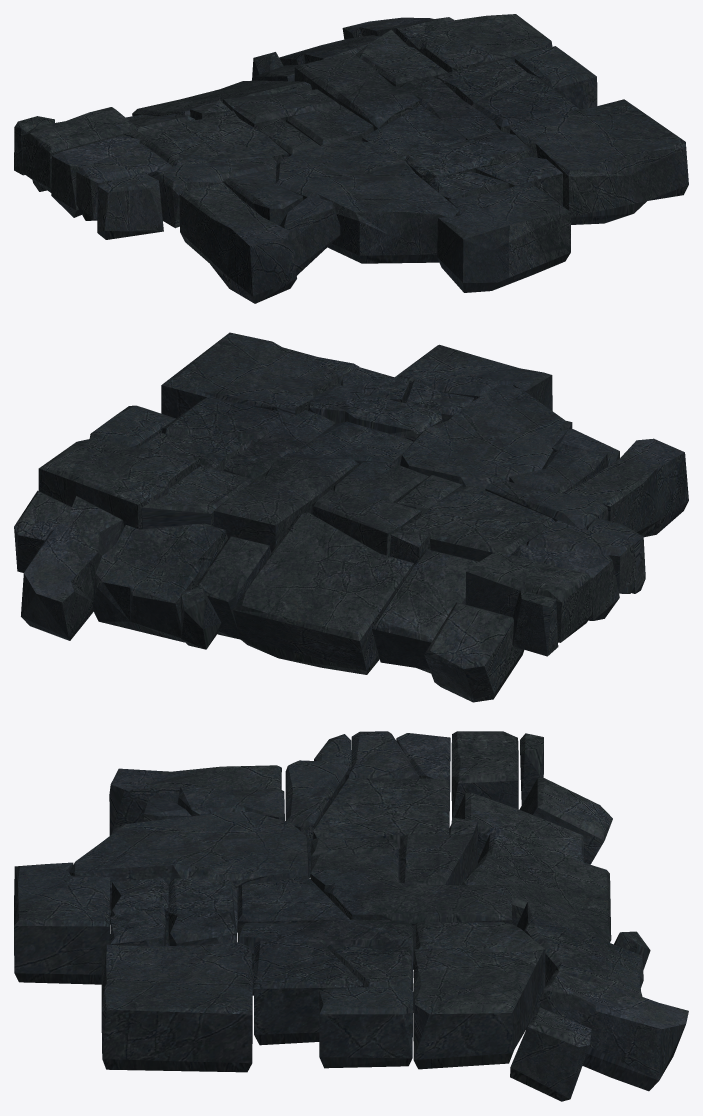
Rendered from Roca1.obj.
3 views of the same model, one above another, from view 1: azimuth 30°, elevation 25°; view 2: azimuth 150°, elevation 25°; view 3: azimuth 270°, elevation 25° (orthographic). The views are drawn at different scales.
Parts seen in each view (by area): view 1: XelNaga_Cavern_Stone_Bricks_Crumbled_01; view 2: XelNaga_Cavern_Stone_Bricks_Crumbled_01; view 3: XelNaga_Cavern_Stone_Bricks_Crumbled_01.
Part boxes in pixels (x1,y1,x2,y2): XelNaga_Cavern_Stone_Bricks_Crumbled_01: [14, 14, 688, 303]; XelNaga_Cavern_Stone_Bricks_Crumbled_01: [14, 332, 688, 702]; XelNaga_Cavern_Stone_Bricks_Crumbled_01: [14, 731, 688, 1101].
Bounding box in the file's own units: 5.05 × 0.9952 × 5.15.
Materials: 1 (1 with a texture image).
